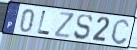0: (19, 8, 37, 34)
2: (91, 16, 111, 44)
C: (110, 17, 131, 46)
L: (36, 10, 52, 37)
S: (73, 14, 94, 41)
Z: (53, 11, 75, 40)
